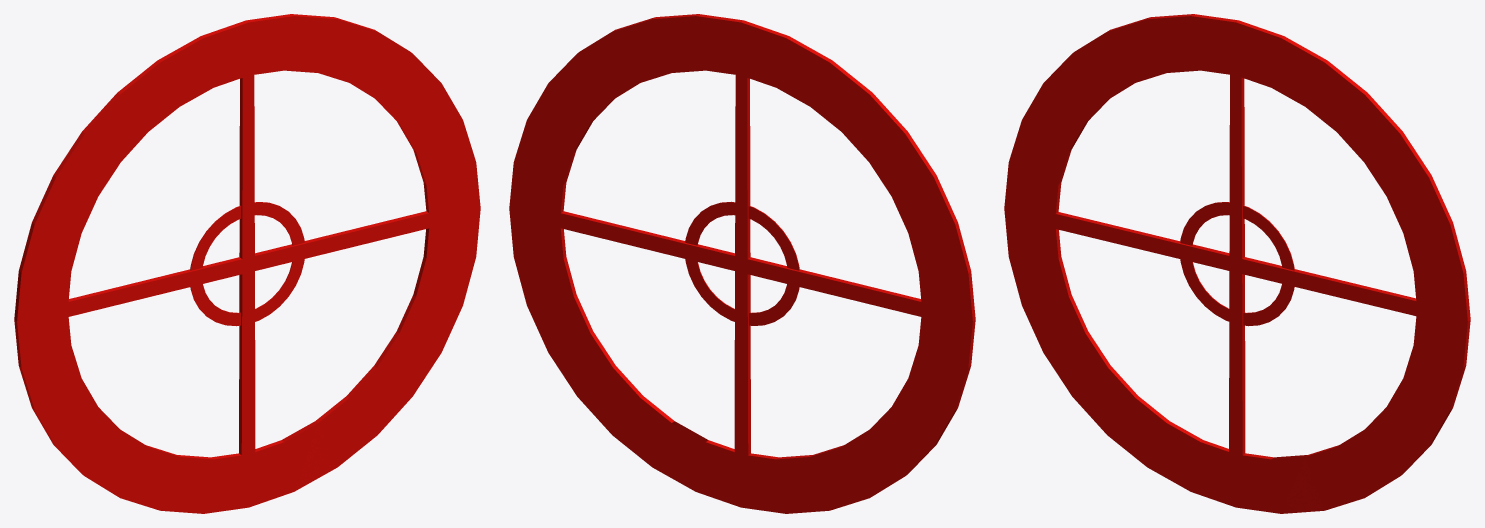
The model's file is POI_HALO.fbx.
3 renders of one model, left to right at view 1: azimuth 30°, elevation 25°; view 2: azimuth 150°, elevation 25°; view 3: azimuth 330°, elevation 25°, orthographic.
Parts seen in each view (by area): view 1: Circle; view 2: Circle; view 3: Circle.
Part boxes in pixels (x1,y1,x2,y2): Circle: (14,14,480,513); Circle: (509,14,975,513); Circle: (1004,14,1470,513).
Size of the model in its own units: 200 by 200 by 2.11.
